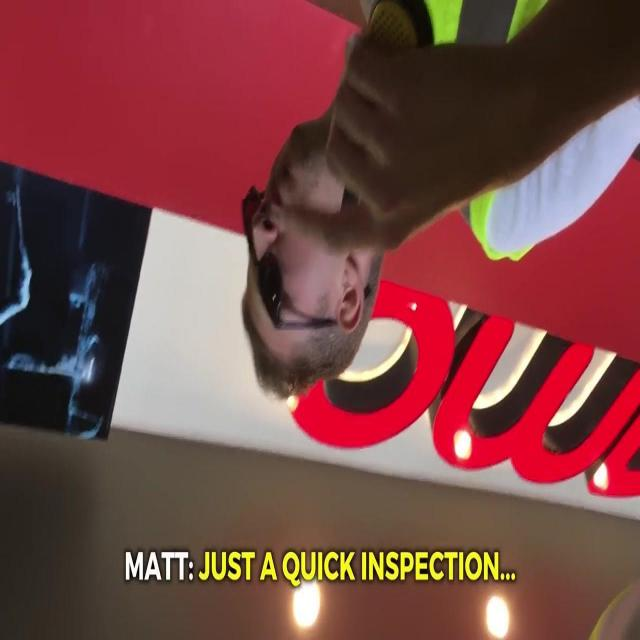vest: (422, 0, 592, 260)
